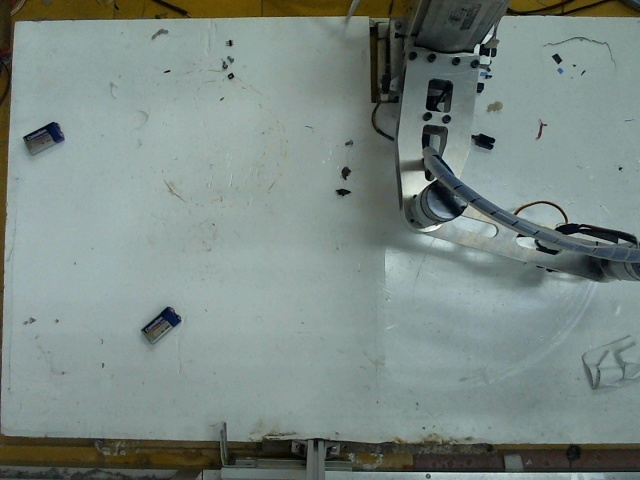battery: (140, 302, 183, 348), (19, 116, 61, 153)
